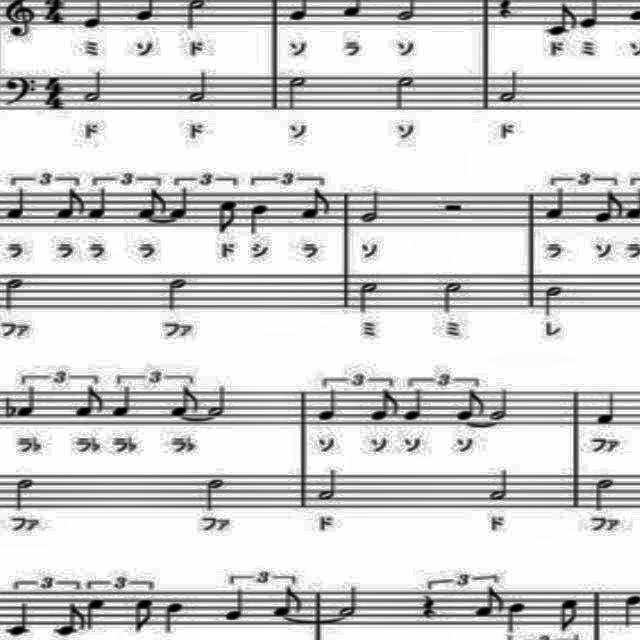Bass-clef: (2, 74, 40, 110)
Eighth-note: (590, 188, 628, 228), (52, 598, 88, 638), (133, 183, 167, 221), (71, 384, 105, 422), (365, 385, 399, 423), (54, 187, 86, 226), (299, 188, 333, 224), (270, 585, 306, 619), (215, 195, 243, 238), (454, 384, 486, 421), (168, 384, 200, 420), (472, 584, 504, 620), (130, 594, 156, 634), (558, 592, 578, 632)
Half-note: (356, 185, 392, 228), (354, 274, 386, 322), (165, 270, 195, 316), (390, 71, 418, 115), (314, 462, 342, 506), (536, 280, 568, 318), (588, 475, 620, 513), (184, 64, 212, 106), (486, 463, 514, 505), (438, 278, 466, 318), (10, 472, 38, 512), (202, 472, 230, 512), (496, 67, 524, 106), (488, 383, 516, 422), (1, 274, 27, 314), (81, 69, 107, 107), (286, 70, 308, 114), (336, 582, 359, 620), (204, 384, 228, 420)
Quarter-note: (1, 596, 33, 636), (592, 384, 620, 428), (221, 582, 249, 624), (108, 383, 136, 421), (314, 385, 342, 423), (4, 186, 32, 222), (166, 186, 194, 222), (248, 202, 276, 238), (87, 185, 113, 223), (540, 185, 566, 223), (86, 596, 110, 636), (162, 596, 186, 636), (16, 383, 40, 421), (400, 388, 424, 424), (507, 598, 529, 634)
Quarter-rest: (414, 592, 442, 620)
